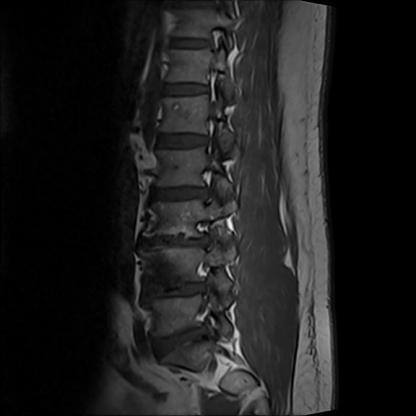Disc Bulgerotation: (126, 224, 233, 274), (147, 321, 234, 353)
